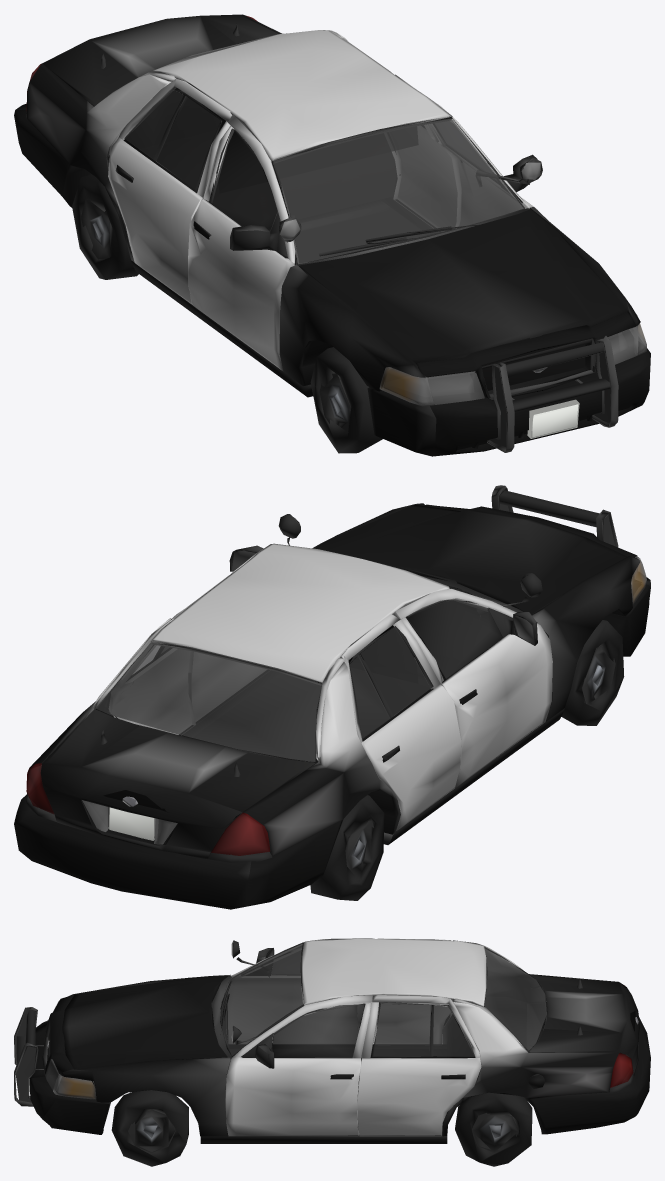
3 views of the same model, one above another, from view 1: azimuth 30°, elevation 25°; view 2: azimuth 150°, elevation 25°; view 3: azimuth 270°, elevation 25° (orthographic). The views are drawn at different scales.
Parts seen in each view (by area): view 1: body, glass, wheel_FL, wheel_RL; view 2: body, glass, wheel_RL, wheel_FL; view 3: body, glass, wheel_FR, wheel_RR.
Part boxes in pixels (bbox=[...]): body: bbox=[14, 14, 650, 456]; glass: bbox=[26, 15, 646, 406]; wheel_FL: bbox=[310, 347, 382, 453]; wheel_RL: bbox=[72, 174, 138, 279]; body: bbox=[14, 485, 650, 909]; glass: bbox=[26, 504, 646, 855]; wheel_RL: bbox=[310, 795, 384, 900]; wheel_FL: bbox=[561, 620, 624, 725]; body: bbox=[14, 938, 650, 1143]; glass: bbox=[45, 941, 633, 1099]; wheel_FR: bbox=[111, 1090, 188, 1166]; wheel_RR: bbox=[455, 1092, 532, 1166].
Bounding box in the file's own units: 2.15 × 1.49 × 5.39.
